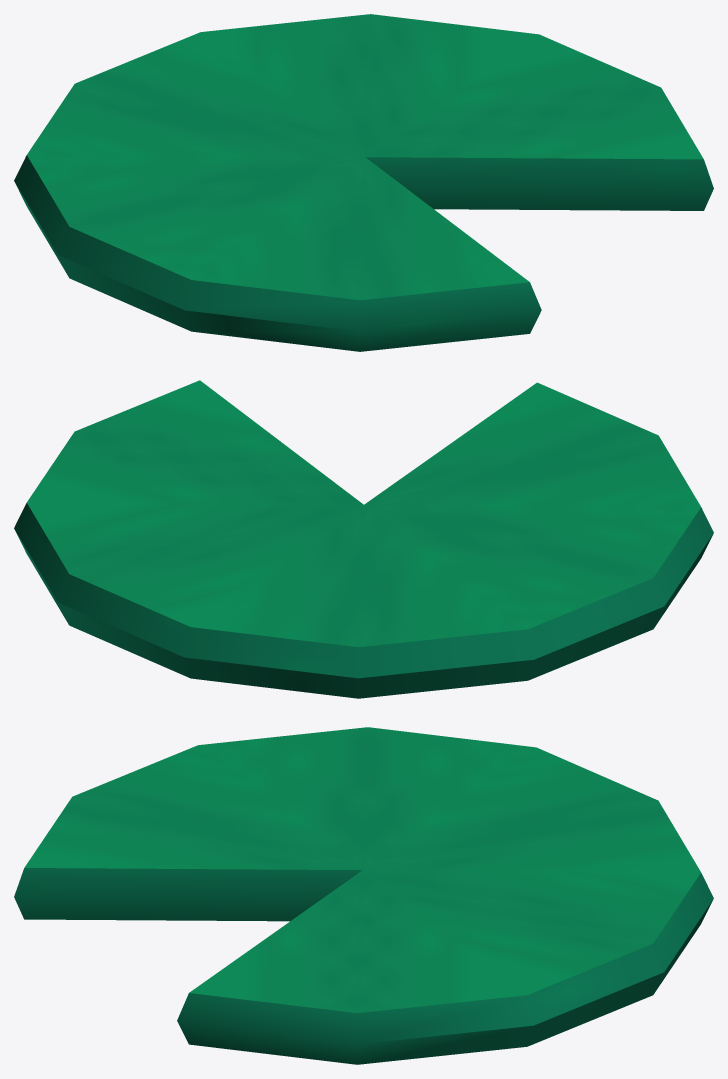
File: waterlily_B.glb
3 views of the same model, one above another, from view 1: azimuth 30°, elevation 25°; view 2: azimuth 150°, elevation 25°; view 3: azimuth 270°, elevation 25° (orthographic).
Visible parts, largest first — view 1: waterlily_B; view 2: waterlily_B; view 3: waterlily_B.
Boxes of the visible parts, x1,y1,x2,y2 form: waterlily_B: (14, 14, 713, 351); waterlily_B: (14, 380, 713, 698); waterlily_B: (14, 727, 713, 1064).
Bounding box in the file's own units: 0.2115 × 0.0171 × 0.2107.
Materials: 1 (1 with a texture image).
